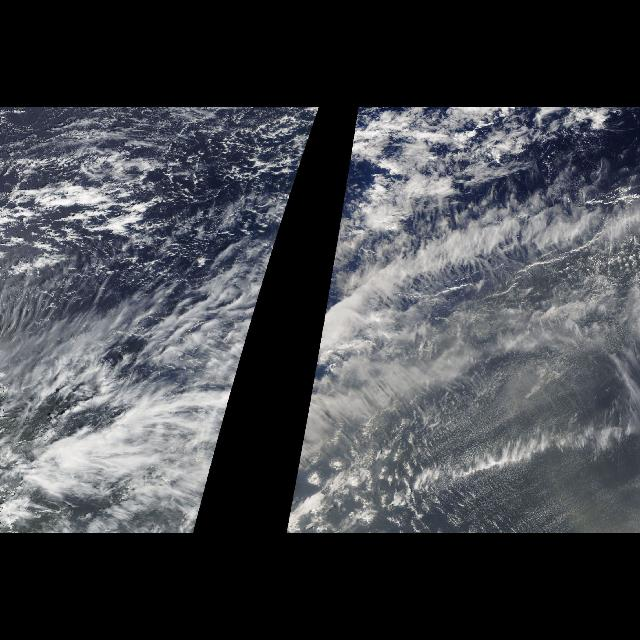Gravel: (141, 113, 271, 257)
Sugar: (446, 392, 634, 530)
